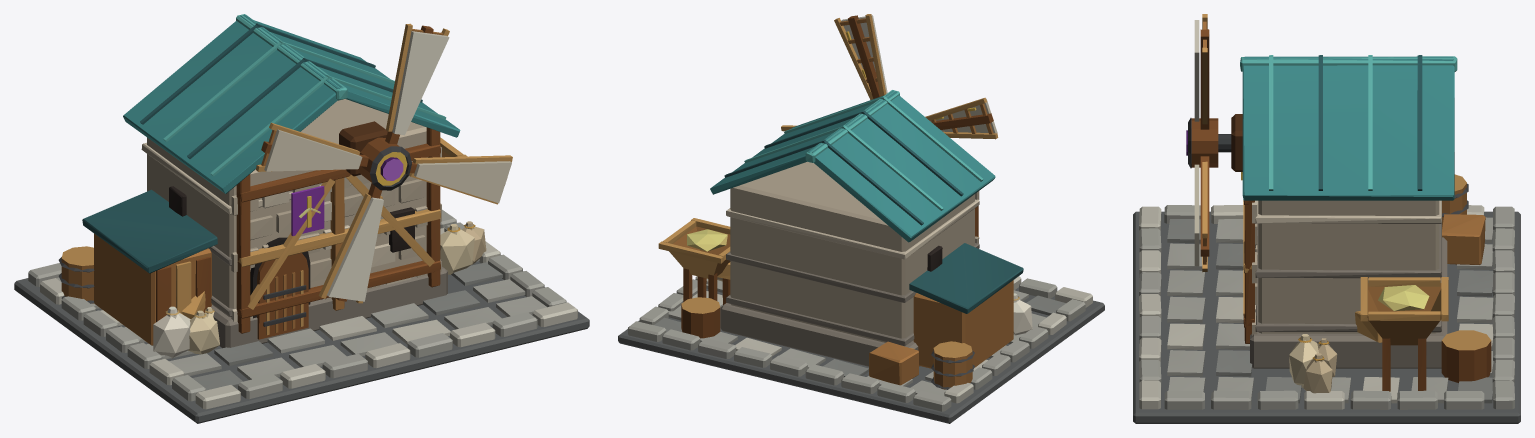
The picture shows the model from 3 angles, left to right: view 1: azimuth 30°, elevation 25°; view 2: azimuth 150°, elevation 25°; view 3: azimuth 270°, elevation 25°; orthographic projection. The views are drawn at different scales.
Visible parts, largest first — view 1: WK_CityMill_LOD0_High; view 2: WK_CityMill_LOD0_High; view 3: WK_CityMill_LOD0_High.
Part boxes in pixels (<box>): WK_CityMill_LOD0_High: <box>14,14,589,423</box>; WK_CityMill_LOD0_High: <box>618,14,1104,423</box>; WK_CityMill_LOD0_High: <box>1133,14,1520,423</box>.
Size of the model in its own units: 9.3 by 7.12 by 7.5.
